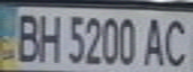0: (118, 14, 142, 68), (100, 12, 121, 66)
2: (81, 12, 103, 65)
5: (63, 11, 84, 64)
A: (139, 13, 169, 69)
B: (9, 9, 42, 63)
C: (160, 15, 193, 69)
H: (33, 10, 63, 63)
